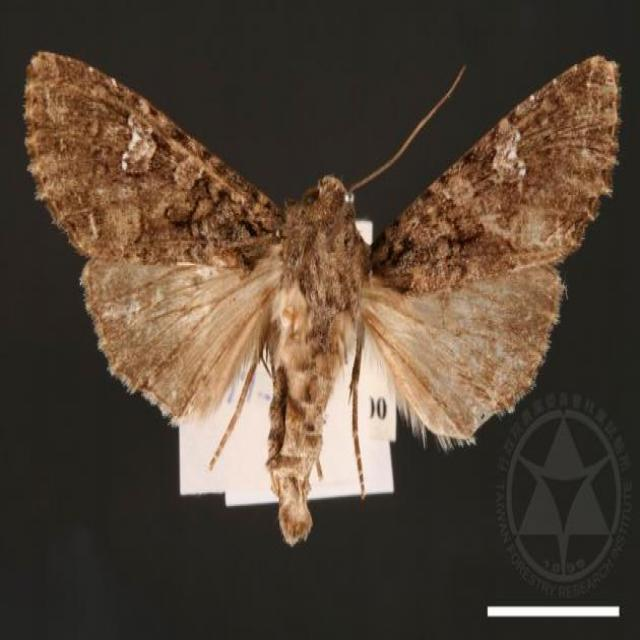armyworm: (29, 45, 623, 555)
